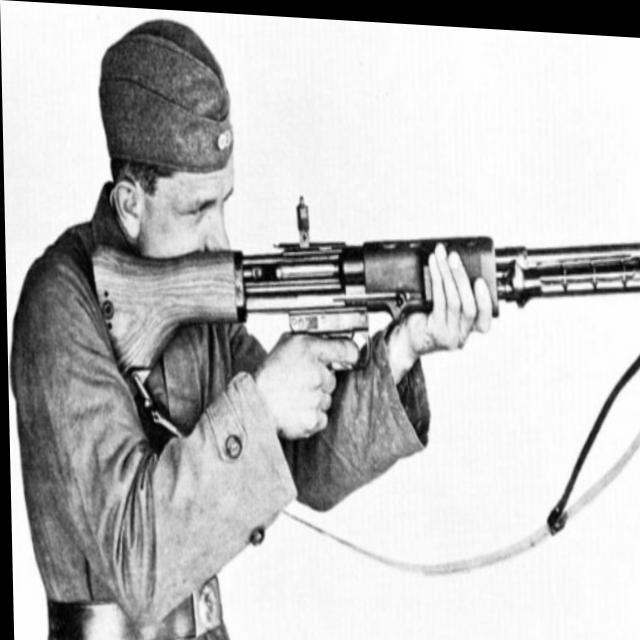other: (3, 15, 310, 640)
